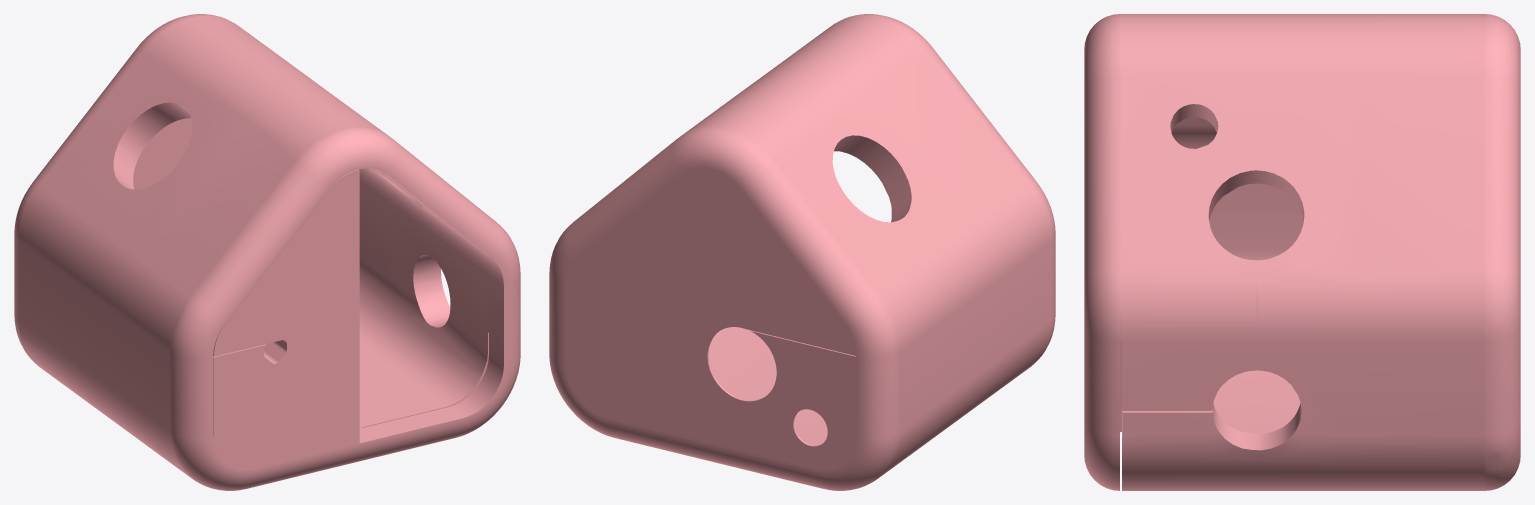
Rendered from Homie_Basic.glb.
The picture shows the model from 3 angles, left to right: view 1: azimuth 30°, elevation 25°; view 2: azimuth 150°, elevation 25°; view 3: azimuth 270°, elevation 25°; orthographic projection. The views are drawn at different scales.
Visible parts, largest first — view 1: connector; view 2: connector; view 3: connector.
Part boxes in pixels (x1,y1,x2,y2): connector: [14, 14, 520, 490]; connector: [549, 14, 1055, 490]; connector: [1084, 14, 1520, 490].
Bounding box in the file's own units: 0.5144 × 0.4718 × 0.4685.
